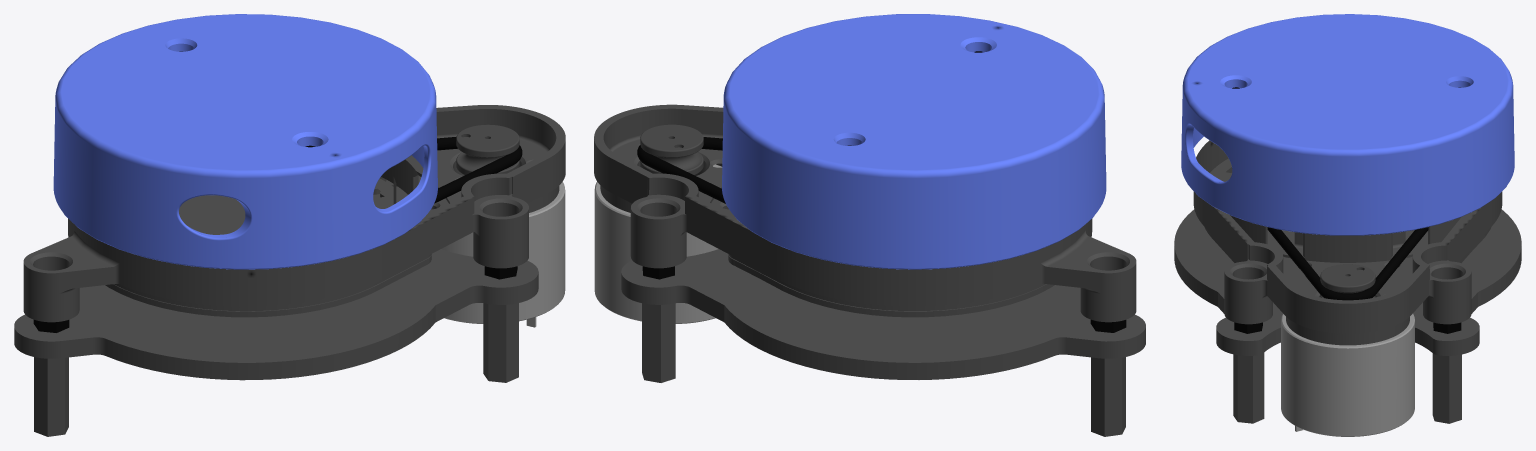
Rendered from ydlidar_x2_assy.dae.
3 renders of one model, left to right at view 1: azimuth 30°, elevation 25°; view 2: azimuth 150°, elevation 25°; view 3: azimuth 270°, elevation 25°, orthographic. The views are drawn at different scales.
Visible parts, largest first — view 1: ydlidar_x2_assy; view 2: ydlidar_x2_assy; view 3: ydlidar_x2_assy.
Part boxes in pixels (<box>): ydlidar_x2_assy: <box>14,14,565,436</box>; ydlidar_x2_assy: <box>594,14,1145,436</box>; ydlidar_x2_assy: <box>1174,14,1521,436</box>.
Size of the model in its own units: 0.0974 by 0.063 by 0.0503.
Materials: 1 (1 with a texture image).
